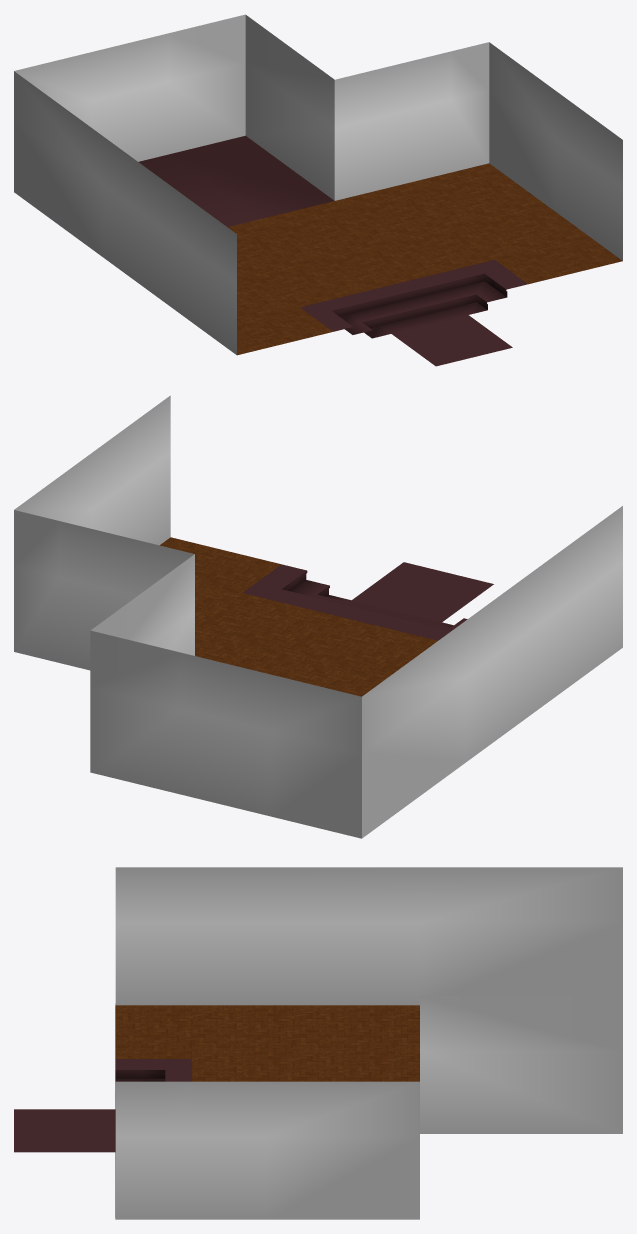
Rendered from shop_main.fbx.
3 views of the same model, one above another, from view 1: azimuth 30°, elevation 25°; view 2: azimuth 150°, elevation 25°; view 3: azimuth 270°, elevation 25° (orthographic). The views are drawn at different scales.
Parts seen in each view (by area): view 1: shop; view 2: shop; view 3: shop.
Boxes of the visible parts, x1,y1,x2,y2 form: shop: [14, 14, 622, 366]; shop: [14, 395, 622, 838]; shop: [14, 867, 622, 1219].
Size of the model in its own units: 320 by 109 by 384.
